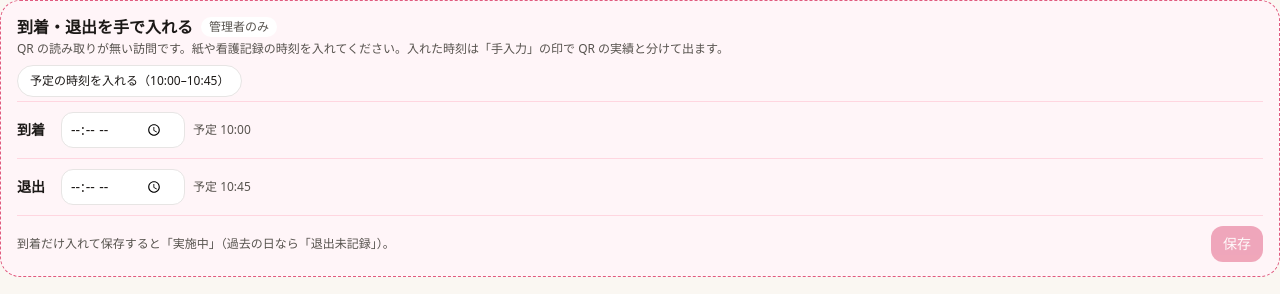
it: ActualTimeAdjustBox — 打刻なしの訪問（到着・退出を手で入れる） › 入力は空から始まり、入れるまで保存できない。「予定の時刻を入れる」で両方入る
The image size is (1280, 294).
Expected: the time field named "到着の時刻" is empty, [61, 112, 185, 148]
Expected: the time field named "退出の時刻" is empty, [61, 169, 185, 205]
Click the button with test id "t-manual-fill-planned": (130, 81) [17, 65, 242, 97]
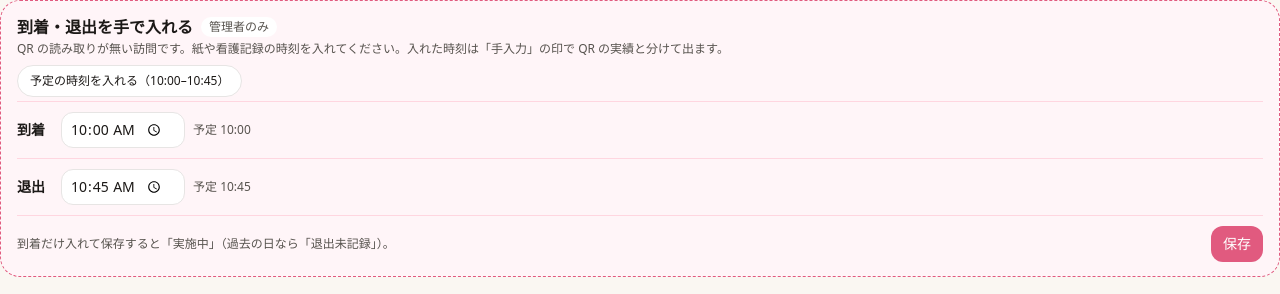
Expected: the time field named "到着の時刻" holds "10:00", [61, 112, 185, 148]
Expected: the time field named "退出の時刻" holds "10:45", [61, 169, 185, 205]
Expected: the button with test id "t-manual-save" is enabled, [1211, 226, 1263, 262]
